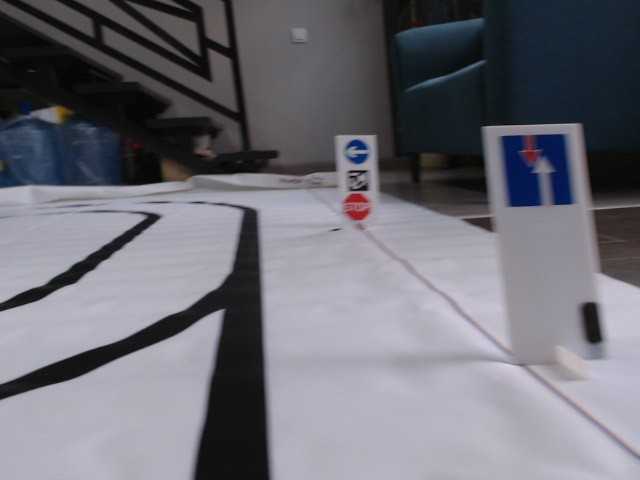Stop: (343, 193, 371, 221)
priority_movement: (499, 134, 575, 205)
